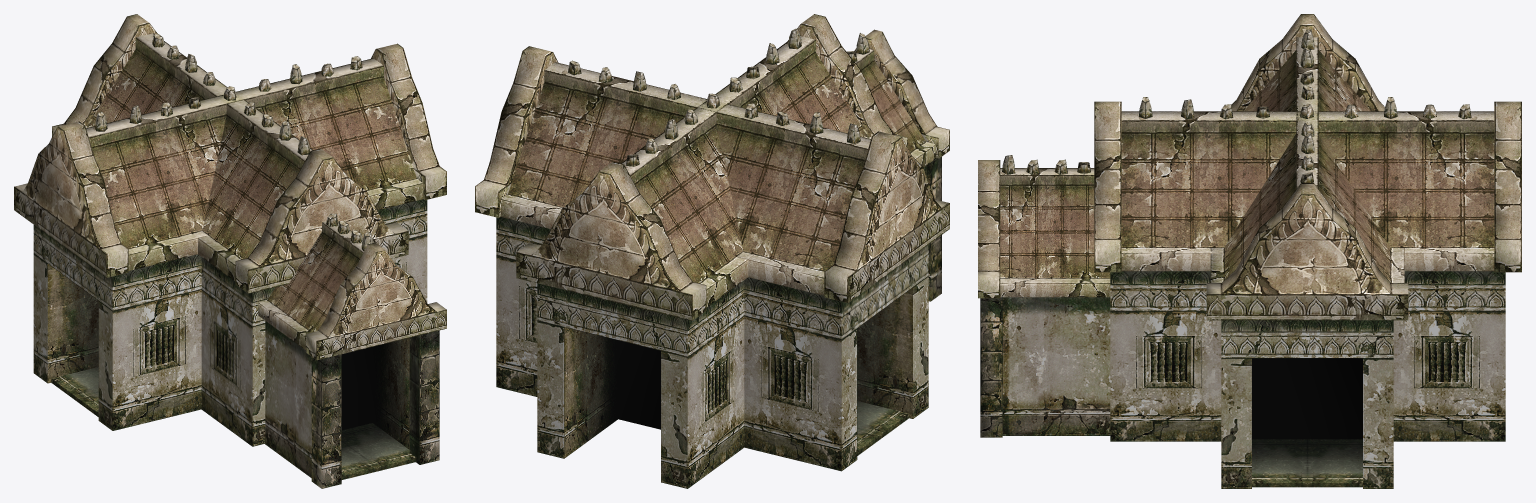
File: exterior.glb
The picture shows the model from 3 angles, left to right: view 1: azimuth 30°, elevation 25°; view 2: azimuth 150°, elevation 25°; view 3: azimuth 270°, elevation 25°; orthographic projection. The views are drawn at different scales.
Visible parts, largest first — view 1: te_dun; view 2: te_dun; view 3: te_dun.
Boxes of the visible parts, x1,y1,x2,y2 form: te_dun: (14,14,446,488); te_dun: (475,14,949,488); te_dun: (978,14,1521,488).
Size of the model in its own units: 0.2151 by 0.1709 by 0.2735.
5 materials, 5 textured.
